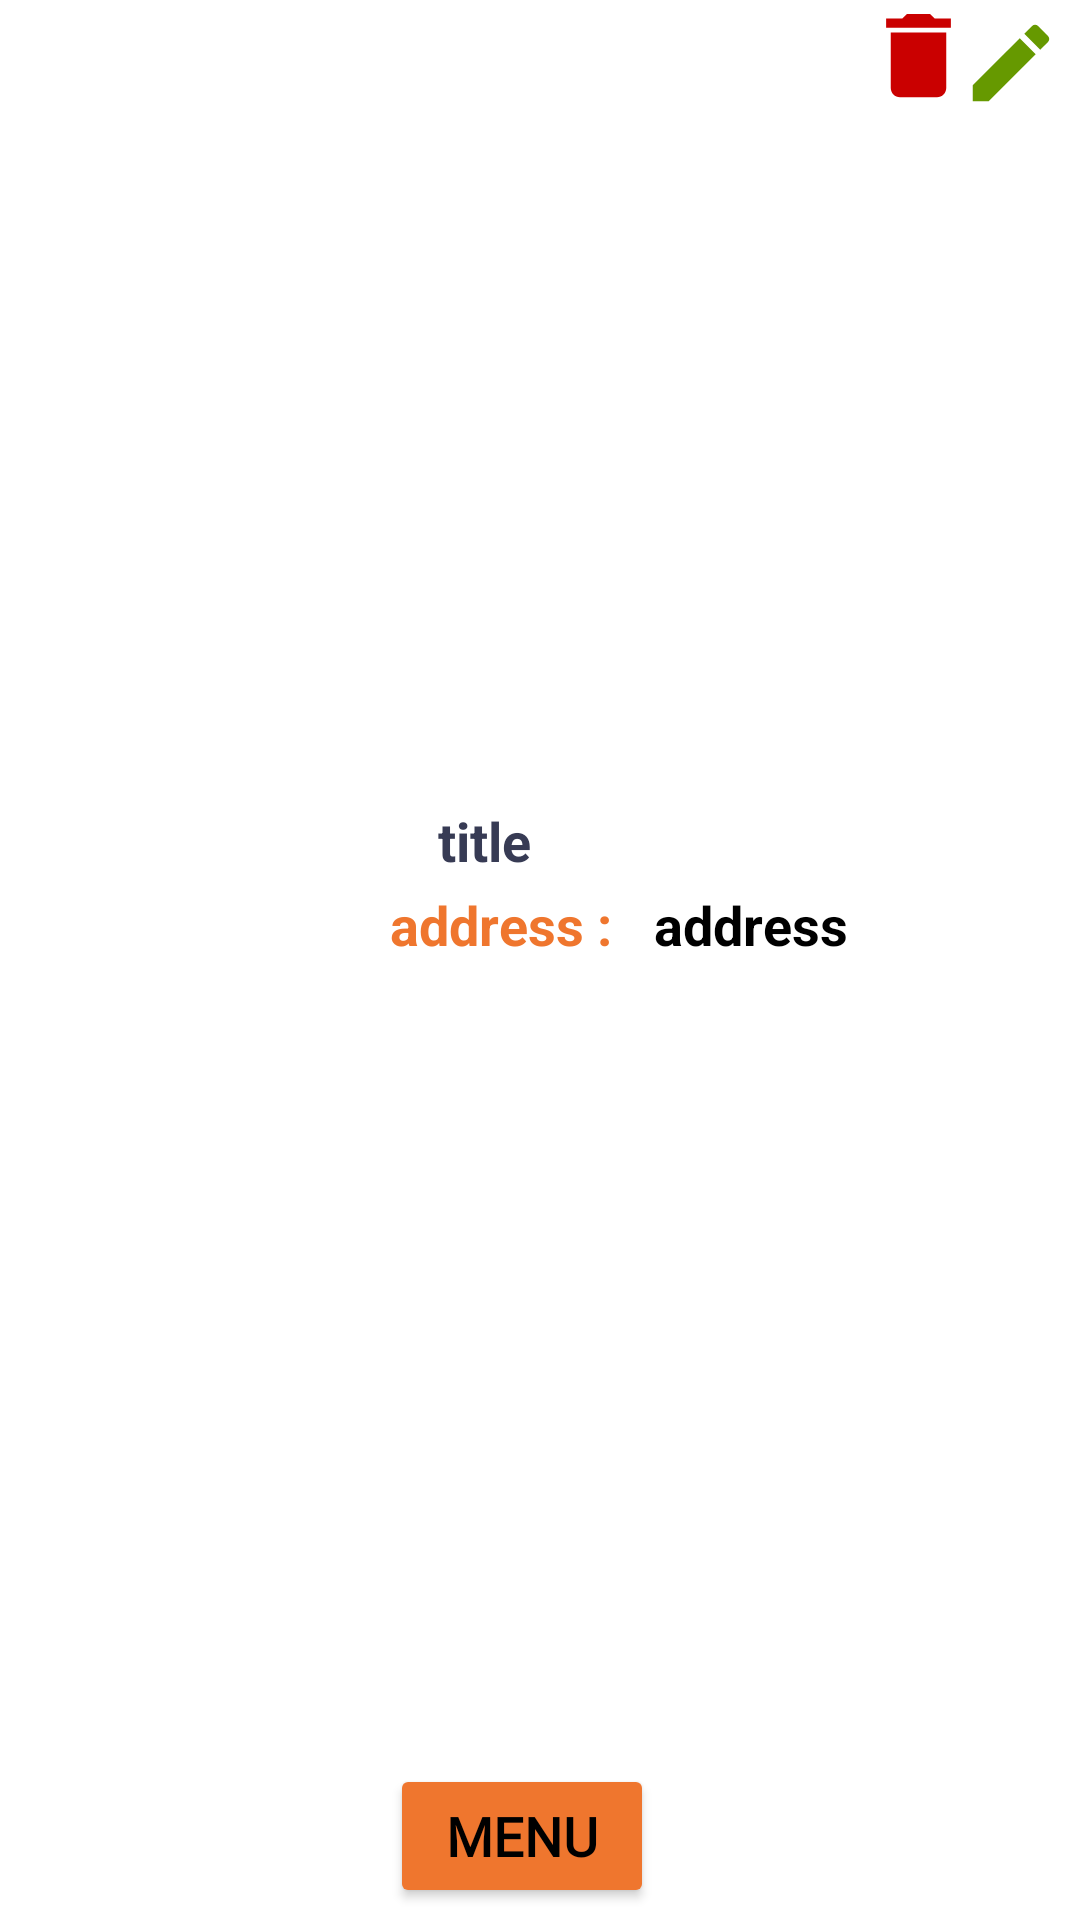

Where icons sit on this 1080px x 1920px app screen, as bbox(x1, y1, x2, y2):
delete: bbox(886, 14, 951, 98)
edit: bbox(972, 24, 1050, 102)
